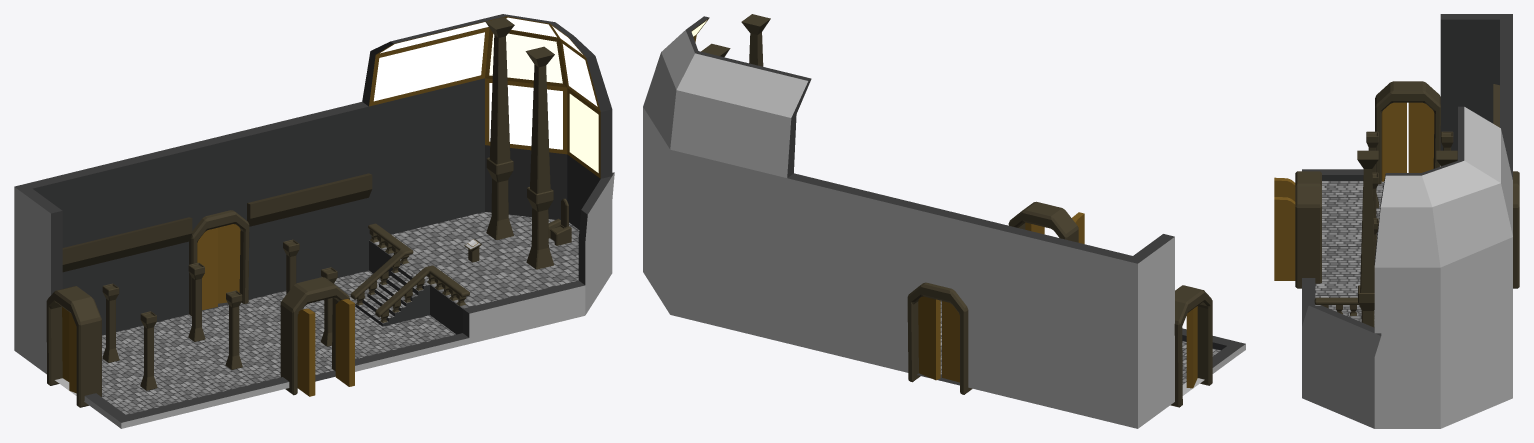
3 views of the same model, side by side, from view 1: azimuth 30°, elevation 25°; view 2: azimuth 150°, elevation 25°; view 3: azimuth 270°, elevation 25° (orthographic). The views are drawn at different scales.
Visible parts, largest first — view 1: Церковь; view 2: Церковь; view 3: Церковь.
Boxes of the visible parts, box(x1,y1,x2,y2) form: Церковь: box(14, 14, 614, 428); Церковь: box(643, 14, 1245, 428); Церковь: box(1274, 14, 1519, 428).
Size of the model in its own units: 9284 by 4076 by 3721.
